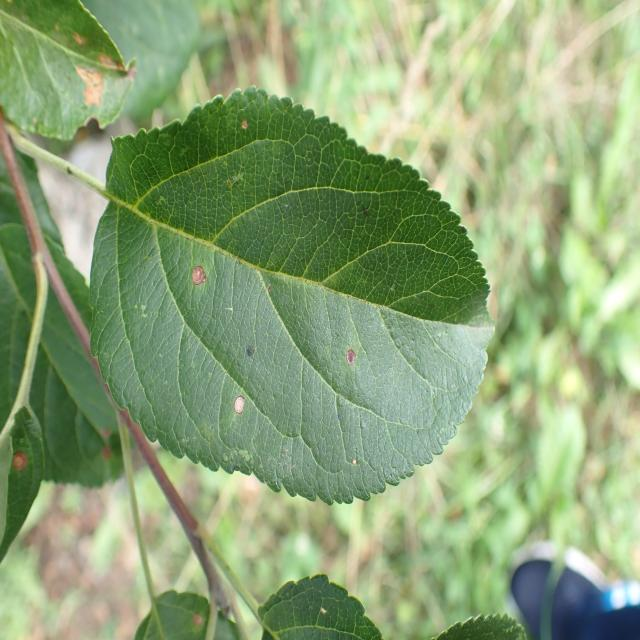Black Rot: (66, 17, 121, 120), (174, 250, 210, 294), (224, 386, 258, 429), (340, 323, 361, 382), (234, 108, 254, 150)
